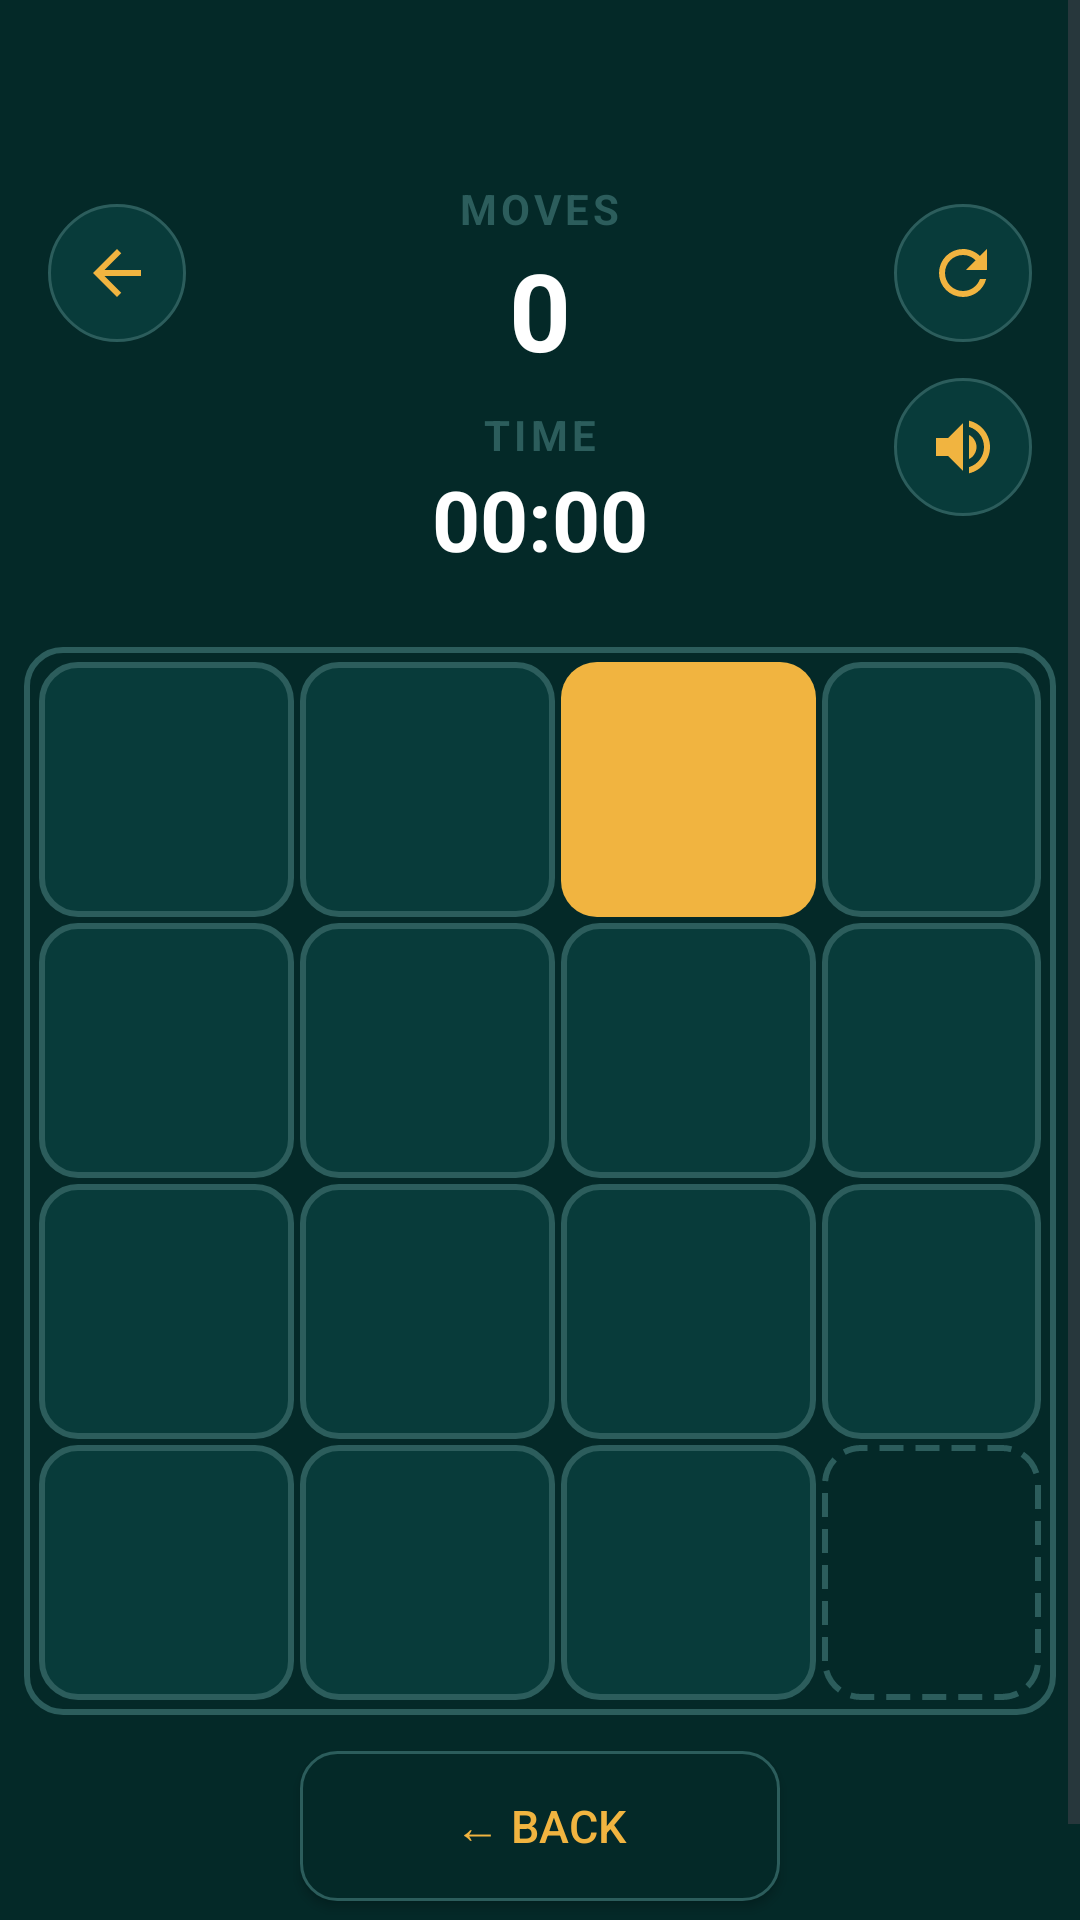

Screen size 1080w x 1920h. Icon name, then its box in pixels as (x1, y1, x2, y2):
Exit: (48, 204, 186, 342)
Restart: (894, 204, 1032, 342)
Sound: (894, 378, 1032, 516)
